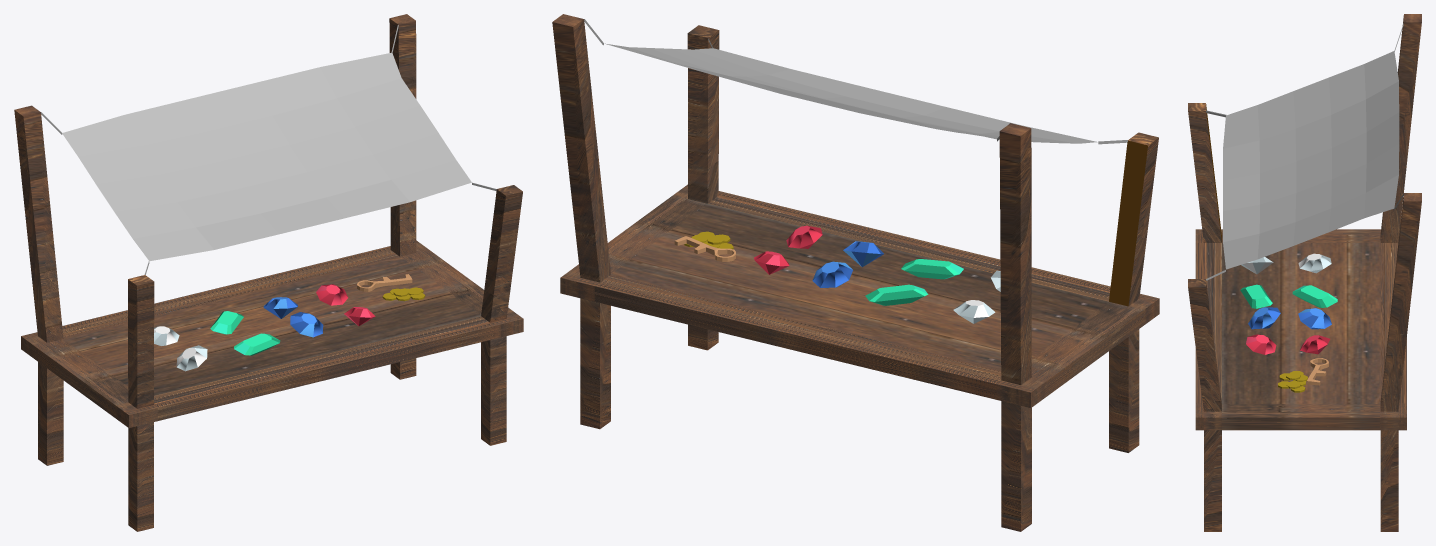
Rendered from Gem stall.glb.
3 renders of one model, left to right at view 1: azimuth 30°, elevation 25°; view 2: azimuth 150°, elevation 25°; view 3: azimuth 270°, elevation 25°, orthographic. The views are drawn at different scales.
Parts seen in each view (by area): view 1: Cube.009; view 2: Cube.009; view 3: Cube.009.
Part boxes in pixels (x1,y1,x2,y2): Cube.009: (14,14,523,531); Cube.009: (552,14,1159,531); Cube.009: (1188,14,1421,531).
Size of the model in its own units: 1.9 by 1.58 by 0.9964.
21 materials, 1 textured.
